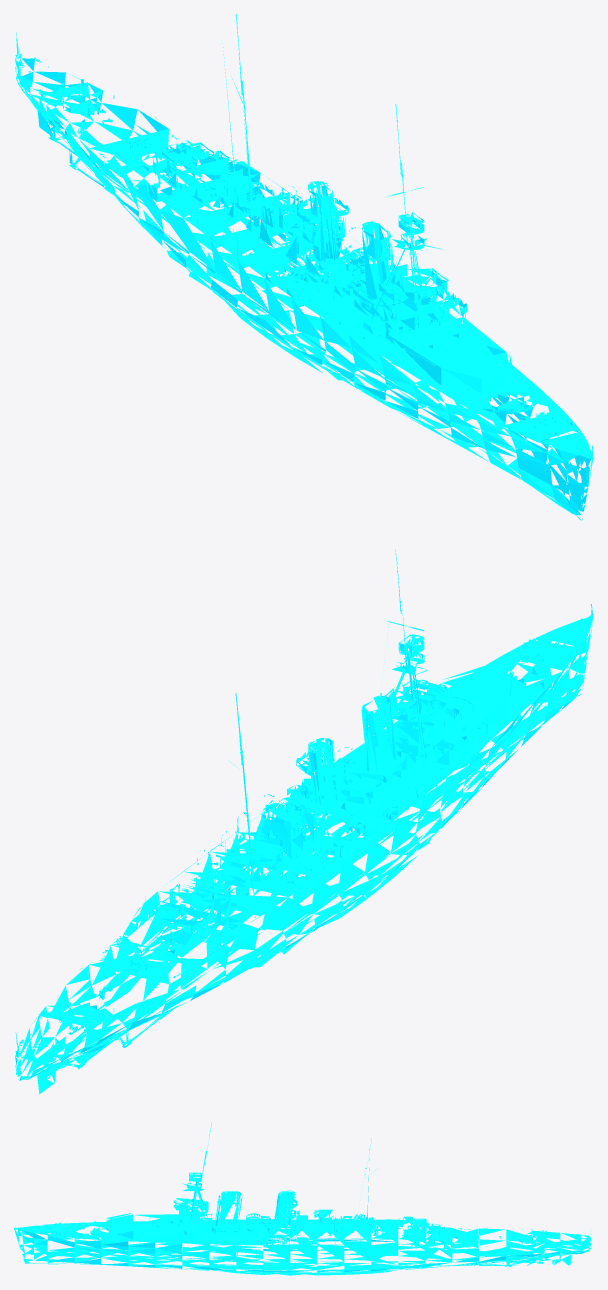
Rendered from Hawkins.glb.
3 views of the same model, one above another, from view 1: azimuth 30°, elevation 25°; view 2: azimuth 150°, elevation 25°; view 3: azimuth 270°, elevation 25° (orthographic). The views are drawn at different scales.
Size of the model in its own units: 1.32 by 3.34 by 12.34.
